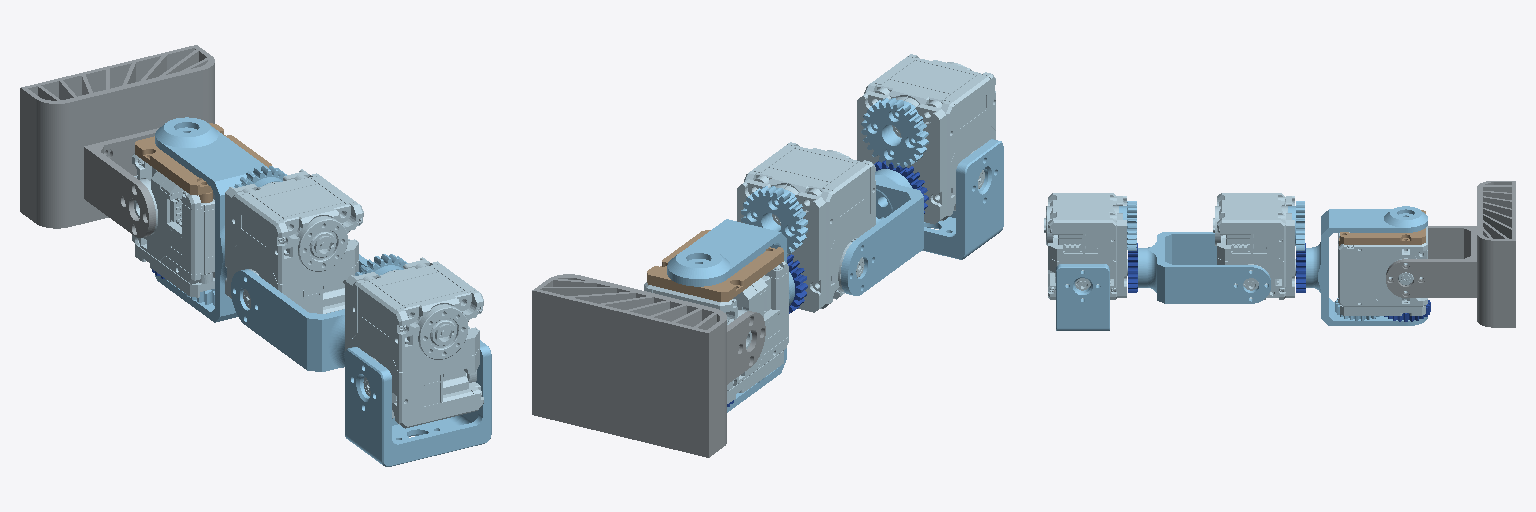
URDF robot description (right_arm_active):
<?xml version="1.0" ?><robot name="right_arm_active">  
  <link name="sho_pitch_link">    
    <visual>      
      <origin xyz="0 0 0" rpy="0 -0 0"/>      
      <geometry>        
        <mesh filename="package:///meshes/right_sho_pitch_link_visual.stl"/>        
      </geometry>      
      <material name="sho_pitch_link_material">        
        <color rgba="0.61568627450980395466 0.81176470588235294379 0.92941176470588227065 1.0"/>        
      </material>      
    </visual>    
    <collision>      
      <origin xyz="0 0 0" rpy="0 -0 0"/>      
      <geometry>        
        <mesh filename="package:///meshes/right_sho_pitch_link_collision.stl"/>        
      </geometry>      
    </collision>    
    <inertial>      
      <origin xyz="-1.025903438159899119e-18 -2.1966078074444289517e-18 0.012913250798677602602" rpy="0 0 0"/>      
      <mass value="0.0085999999999999982708"/>      
      <inertia ixx="1.8365636406635814379e-06" ixy="2.7052466620977967735e-97" ixz="-6.0867229013657688598e-136" iyy="4.0110869076839152165e-06" iyz="-1.6935833339184753197e-44" izz="3.5160516450492493809e-06"/>      
    </inertial>    
  </link>  

  <link name="2xl430_gears">    
    <visual>      
      <origin xyz="0 0 0" rpy="0 -0 0"/>      
      <geometry>        
        <mesh filename="package:///meshes/right_2xl430_gears_visual.stl"/>        
      </geometry>      
      <material name="2xl430_gears_material">        
        <color rgba="0.75914767920569214965 0.85560384745670925444 0.90519468321360607721 1.0"/>        
      </material>      
    </visual>    
    <collision>      
      <origin xyz="0 0 0" rpy="0 -0 0"/>      
      <geometry>        
        <mesh filename="package:///meshes/right_2xl430_gears_collision.stl"/>        
      </geometry>      
    </collision>    
    <inertial>      
      <origin xyz="-0.011592905737978696085 -0.0024238553642522840843 -0.018551095523803726173" rpy="0 0 0"/>      
      <mass value="0.11800003674524911501"/>      
      <inertia ixx="2.7511021050424646017e-05" ixy="9.0043904315135573925e-07" ixz="-2.3349710123960218718e-08" iyy="3.2796197843346207182e-05" iyz="-6.5715119654693386146e-07" izz="3.5775739835740998952e-05"/>      
    </inertial>    
  </link>  

  <link name="spur_1m_24t_drive">    
    <visual>      
      <origin xyz="0 0 0" rpy="0 -0 0"/>      
      <geometry>        
        <mesh filename="package:///meshes/right_spur_1m_24t_drive_visual.stl"/>        
      </geometry>      
      <material name="spur_1m_24t_drive_material">        
        <color rgba="0.61568627450980395466 0.81176470588235294379 0.92941176470588238168 1.0"/>        
      </material>      
    </visual>    
    <collision>      
      <origin xyz="0 0 0" rpy="0 -0 0"/>      
      <geometry>        
        <mesh filename="package:///meshes/right_spur_1m_24t_drive_collision.stl"/>        
      </geometry>      
    </collision>    
    <inertial>      
      <origin xyz="3.0326032612408354263e-15 -3.3912620811388938008e-16 0.0048096451474093030592" rpy="0 0 0"/>      
      <mass value="0.0031999999999999997197"/>      
      <inertia ixx="1.4097598887016958673e-07" ixy="1.556282310200251252e-15" ixz="3.9554371954665940773e-37" iyy="1.4097598803635998845e-07" iyz="-1.3068306635892902166e-36" izz="2.4107776386988835496e-07"/>      
    </inertial>    
  </link>  

  <joint name="right_sho_yaw_drive" type="fixed">    
    <origin xyz="-0.024000000716138267243 -0.019000000152445337132 -0.019000000152448424939" rpy="1.5707963267949289765 -7.4062049324254792929e-14 1.9645226351351914911e-14"/>    
    <parent link="2xl430_gears"/>    
    <child link="spur_1m_24t_drive"/>    
    <axis xyz="0 0 1"/>    
    <limit effort="1" velocity="20"/>    
    <joint_properties friction="0.0"/>    
  </joint>  

  <link name="spur_1m_24t_driven">    
    <visual>      
      <origin xyz="0 0 0" rpy="0 -0 0"/>      
      <geometry>        
        <mesh filename="package:///meshes/right_spur_1m_24t_driven_visual.stl"/>        
      </geometry>      
      <material name="spur_1m_24t_driven_material">        
        <color rgba="0.23137254901960788156 0.38039215686274502337 0.7058823529411765163 1.0"/>        
      </material>      
    </visual>    
    <collision>      
      <origin xyz="0 0 0" rpy="0 -0 0"/>      
      <geometry>        
        <mesh filename="package:///meshes/right_spur_1m_24t_driven_collision.stl"/>        
      </geometry>      
    </collision>    
    <inertial>      
      <origin xyz="-2.690304390834019776e-18 -1.6883842059581361246e-15 -0.00097237500038395777158" rpy="0 0 0"/>      
      <mass value="0.0026999999999999997093"/>      
      <inertia ixx="1.2202334915684080498e-07" ixy="0" ixz="0" iyy="1.2202334915684064616e-07" iyz="-3.1611202962161956801e-37" izz="2.3180293204341252239e-07"/>      
    </inertial>    
  </link>  

  <link name="sho_yaw_link">    
    <visual>      
      <origin xyz="0 0 0" rpy="0 -0 0"/>      
      <geometry>        
        <mesh filename="package:///meshes/right_sho_yaw_link_visual.stl"/>        
      </geometry>      
      <material name="sho_yaw_link_material">        
        <color rgba="0.61568627450980395466 0.81176470588235294379 0.92941176470588238168 1.0"/>        
      </material>      
    </visual>    
    <collision>      
      <origin xyz="0 0 0" rpy="0 -0 0"/>      
      <geometry>        
        <mesh filename="package:///meshes/right_sho_yaw_link_collision.stl"/>        
      </geometry>      
    </collision>    
    <inertial>      
      <origin xyz="-1.3035740535093626537e-18 2.6069328434162263936e-18 -0.024649285094360089132" rpy="0 0 0"/>      
      <mass value="0.014500000000000007674"/>      
      <inertia ixx="9.2365904614004439553e-06" ixy="3.5862833440690451918e-13" ixz="3.9137616104652588598e-44" iyy="5.8163826335078791714e-06" iyz="-5.7710285861749289932e-36" izz="4.5074356741562122031e-06"/>      
    </inertial>    
  </link>  

  <link name="2xl430_gears_2">    
    <visual>      
      <origin xyz="0 0 0" rpy="0 -0 0"/>      
      <geometry>        
        <mesh filename="package:///meshes/right_2xl430_gears_2_visual.stl"/>        
      </geometry>      
      <material name="2xl430_gears_2_material">        
        <color rgba="0.75914767920569214965 0.85560384745670925444 0.90519468321360607721 1.0"/>        
      </material>      
    </visual>    
    <collision>      
      <origin xyz="0 0 0" rpy="0 -0 0"/>      
      <geometry>        
        <mesh filename="package:///meshes/right_2xl430_gears_2_collision.stl"/>        
      </geometry>      
    </collision>    
    <inertial>      
      <origin xyz="-0.011592905737984599349 -0.0024238553642520555345 -0.018551095523805894577" rpy="0 0 0"/>      
      <mass value="0.11800003674524911501"/>      
      <inertia ixx="2.7511021050426052092e-05" ixy="9.0043904315050616521e-07" ixz="-2.3349710123664931783e-08" iyy="3.2796197843347223622e-05" iyz="-6.5715119654724408728e-07" izz="3.5775739835742259337e-05"/>      
    </inertial>    
  </link>  

  <link name="spur_1m_24t_drive_2">    
    <visual>      
      <origin xyz="0 0 0" rpy="0 -0 0"/>      
      <geometry>        
        <mesh filename="package:///meshes/right_spur_1m_24t_drive_2_visual.stl"/>        
      </geometry>      
      <material name="spur_1m_24t_drive_2_material">        
        <color rgba="0.61568627450980395466 0.81176470588235294379 0.92941176470588238168 1.0"/>        
      </material>      
    </visual>    
    <collision>      
      <origin xyz="0 0 0" rpy="0 -0 0"/>      
      <geometry>        
        <mesh filename="package:///meshes/right_spur_1m_24t_drive_2_collision.stl"/>        
      </geometry>      
    </collision>    
    <inertial>      
      <origin xyz="3.0256643673369285924e-15 -3.3912620813973872492e-16 0.0048096451474092995898" rpy="0 0 0"/>      
      <mass value="0.0031999999999999997197"/>      
      <inertia ixx="1.4097598887016958673e-07" ixy="1.5562823048769074231e-15" ixz="-2.8340681600212421658e-36" iyy="1.4097598803635996198e-07" iyz="1.2526517803646001736e-36" izz="2.4107776386988835496e-07"/>      
    </inertial>    
  </link>  

  <joint name="right_elbow_yaw_drive" type="fixed">    
    <origin xyz="-0.024000000716147162905 -0.019000000152450874369 -0.019000000152450294971" rpy="1.5707963267950022512 -1.2151179192951298761e-14 -8.3478238015103697896e-15"/>    
    <parent link="2xl430_gears_2"/>    
    <child link="spur_1m_24t_drive_2"/>    
    <axis xyz="0 0 1"/>    
    <limit effort="1" velocity="20"/>    
    <joint_properties friction="0.0"/>    
  </joint>  

  <link name="spur_1m_24t_driven_2">    
    <visual>      
      <origin xyz="0 0 0" rpy="0 -0 0"/>      
      <geometry>        
        <mesh filename="package:///meshes/right_spur_1m_24t_driven_2_visual.stl"/>        
      </geometry>      
      <material name="spur_1m_24t_driven_2_material">        
        <color rgba="0.23137254901960788156 0.38039215686274502337 0.7058823529411765163 1.0"/>        
      </material>      
    </visual>    
    <collision>      
      <origin xyz="0 0 0" rpy="0 -0 0"/>      
      <geometry>        
        <mesh filename="package:///meshes/right_spur_1m_24t_driven_2_collision.stl"/>        
      </geometry>      
    </collision>    
    <inertial>      
      <origin xyz="-2.690304390834019776e-18 -1.6883842059581371106e-15 -0.00097237500038396460205" rpy="0 0 0"/>      
      <mass value="0.0026999999999999997093"/>      
      <inertia ixx="1.2202334915684080498e-07" ixy="3.8503779869585959908e-37" ixz="1.8410192092776977521e-66" iyy="1.2202334915684064616e-07" iyz="1.7901380328147422279e-36" izz="2.3180293204341252239e-07"/>      
    </inertial>    
  </link>  

  <link name="elb_yaw_link">    
    <visual>      
      <origin xyz="0 0 0" rpy="0 -0 0"/>      
      <geometry>        
        <mesh filename="package:///meshes/right_elb_yaw_link_visual.stl"/>        
      </geometry>      
      <material name="elb_yaw_link_material">        
        <color rgba="0.61568627450980395466 0.81176470588235294379 0.92941176470588227065 1.0"/>        
      </material>      
    </visual>    
    <collision>      
      <origin xyz="0 0 0" rpy="0 -0 0"/>      
      <geometry>        
        <mesh filename="package:///meshes/right_elb_yaw_link_collision.stl"/>        
      </geometry>      
    </collision>    
    <inertial>      
      <origin xyz="5.3127688027774929136e-08 0.0019833638641961648559 -0.02341664355154993854" rpy="0 0 0"/>      
      <mass value="0.017500000000000005135"/>      
      <inertia ixx="1.4134344903109199776e-05" ixy="1.6945783922006116668e-12" ixz="-1.1286398721833140765e-11" iyy="6.6435900776211340404e-06" iyz="1.0545227077253051227e-06" izz="8.9925290757998993713e-06"/>      
    </inertial>    
  </link>  

  <link name="spur_1m_24t_driven_3">    
    <visual>      
      <origin xyz="0 0 0" rpy="0 -0 0"/>      
      <geometry>        
        <mesh filename="package:///meshes/right_spur_1m_24t_driven_3_visual.stl"/>        
      </geometry>      
      <material name="spur_1m_24t_driven_3_material">        
        <color rgba="0.23137254901960788156 0.38039215686274502337 0.7058823529411765163 1.0"/>        
      </material>      
    </visual>    
    <collision>      
      <origin xyz="0 0 0" rpy="0 -0 0"/>      
      <geometry>        
        <mesh filename="package:///meshes/right_spur_1m_24t_driven_3_collision.stl"/>        
      </geometry>      
    </collision>    
    <inertial>      
      <origin xyz="2.5065271224795038179e-17 -1.6883842059581323775e-15 -0.0025723750003839550293" rpy="0 0 0"/>      
      <mass value="0.0026999999999999997093"/>      
      <inertia ixx="1.2202334915684080498e-07" ixy="1.6801645595678856956e-36" ixz="1.4628821664372086897e-36" iyy="1.2202334915684064616e-07" iyz="0" izz="2.3180293204341252239e-07"/>      
    </inertial>    
  </link>  

  <link name="2xl430_gears_3">    
    <visual>      
      <origin xyz="0 0 0" rpy="0 -0 0"/>      
      <geometry>        
        <mesh filename="package:///meshes/right_2xl430_gears_3_visual.stl"/>        
      </geometry>      
      <material name="2xl430_gears_3_material">        
        <color rgba="0.75914767920569214965 0.85560384745670925444 0.90519468321360607721 1.0"/>        
      </material>      
    </visual>    
    <collision>      
      <origin xyz="0 0 0" rpy="0 -0 0"/>      
      <geometry>        
        <mesh filename="package:///meshes/right_2xl430_gears_3_collision.stl"/>        
      </geometry>      
    </collision>    
    <inertial>      
      <origin xyz="0.00044890447620015019132 0.011592905379911784894 -0.024576144788197192698" rpy="0 0 0"/>      
      <mass value="0.11800003674524911501"/>      
      <inertia ixx="3.5775739835742767557e-05" ixy="2.3349710123598390066e-08" ixz="6.5715119654677461927e-07" iyy="2.7511021050425875909e-05" iyz="9.0043904315183537166e-07" izz="3.2796197843346695073e-05"/>      
    </inertial>    
  </link>  

  <link name="spur_1m_24t_drive_3">    
    <visual>      
      <origin xyz="0 0 0" rpy="0 -0 0"/>      
      <geometry>        
        <mesh filename="package:///meshes/right_spur_1m_24t_drive_3_visual.stl"/>        
      </geometry>      
      <material name="spur_1m_24t_drive_3_material">        
        <color rgba="0.61568627450980395466 0.81176470588235294379 0.92941176470588238168 1.0"/>        
      </material>      
    </visual>    
    <collision>      
      <origin xyz="0 0 0" rpy="0 -0 0"/>      
      <geometry>        
        <mesh filename="package:///meshes/right_spur_1m_24t_drive_3_collision.stl"/>        
      </geometry>      
    </collision>    
    <inertial>      
      <origin xyz="3.0326032612408362152e-15 -3.3912620813973872492e-16 0.0048096451474093065287" rpy="0 0 0"/>      
      <mass value="0.0031999999999999997197"/>      
      <inertia ixx="1.409759888701696132e-07" ixy="1.5562823122431795239e-15" ixz="9.6598469821100867444e-37" iyy="1.4097598803636004139e-07" iyz="-1.7762240303079187312e-37" izz="2.4107776386988835496e-07"/>      
    </inertial>    
  </link>  

  <joint name="right_wrist_pitch_drive" type="fixed">    
    <origin xyz="-1.5244312511681577095e-10 0.024000000358071732487 -0.0080000000000008709977" rpy="1.2483159056318864267e-14 7.3485321852726251993e-14 -1.5707963267948599206"/>    
    <parent link="2xl430_gears_3"/>    
    <child link="spur_1m_24t_drive_3"/>    
    <axis xyz="0 0 1"/>    
    <limit effort="1" velocity="20"/>    
    <joint_properties friction="0.0"/>    
  </joint>  

  <link name="hand">    
    <visual>      
      <origin xyz="0 0 0" rpy="0 -0 0"/>      
      <geometry>        
        <mesh filename="package:///meshes/right_hand_visual.stl"/>        
      </geometry>      
      <material name="hand_material">        
        <color rgba="0.64149913129808888712 0.67624720774385704836 0.69709605361131798951 1.0"/>        
      </material>      
    </visual>    
    <collision>      
      <origin xyz="0 0 0" rpy="0 -0 0"/>      
      <geometry>        
        <mesh filename="package:///meshes/right_hand_collision.stl"/>        
      </geometry>      
    </collision>    
    <inertial>      
      <origin xyz="0.0037132560777026323712 -0.042135580180293688568 -0.018486870577627653039" rpy="0 0 0"/>      
      <mass value="0.039499999999999986511"/>      
      <inertia ixx="2.4655505305535383863e-05" ixy="6.2292690365591973125e-07" ixz="-1.3905201231125081665e-08" iyy="2.5499495708696300544e-05" iyz="4.048228436147505174e-08" izz="1.3476712280060873444e-05"/>      
    </inertial>    
  </link>  

  <joint name="right_wrist_roll" type="revolute">    
    <origin xyz="0.019000000000002754269 -3.5806785314562716849e-10 -0.02700000015244990656" rpy="5.2111933288359401161e-30 1.570796326794831943 0"/>    
    <parent link="2xl430_gears_3"/>    
    <child link="hand"/>    
    <axis xyz="0 0 1"/>    
    <limit effort="1" velocity="20" lower="-1.3962634015954635824" upper="1.9198621771937625091"/>    
    <joint_properties friction="0.0"/>    
  </joint>  

  <link name="wrist_bearing_plate">    
    <visual>      
      <origin xyz="0 0 0" rpy="0 -0 0"/>      
      <geometry>        
        <mesh filename="package:///meshes/right_wrist_bearing_plate_visual.stl"/>        
      </geometry>      
      <material name="wrist_bearing_plate_material">        
        <color rgba="0.71932243125689054875 0.63128434304969727187 0.52422389360984933404 1.0"/>        
      </material>      
    </visual>    
    <collision>      
      <origin xyz="0 0 0" rpy="0 -0 0"/>      
      <geometry>        
        <mesh filename="package:///meshes/right_wrist_bearing_plate_collision.stl"/>        
      </geometry>      
    </collision>    
    <inertial>      
      <origin xyz="-0.0075835583121499801351 -0.015499999999999977338 -0.0018386323705903331437" rpy="0 0 0"/>      
      <mass value="0.0049000367468305557062"/>      
      <inertia ixx="4.9707430109150129132e-07" ixy="1.3510663819638977183e-22" ixz="1.8100904820814035248e-08" iyy="7.1268523603538595411e-07" iyz="1.9159694223314982598e-23" izz="1.1919657811600109234e-06"/>      
    </inertial>    
  </link>  

  <joint name="right_wrist_pitch_fixed" type="fixed">    
    <origin xyz="0.015500000000003967202 4.5519144009631418157e-15 -0.045000000000003738398" rpy="-3.053113317715679127e-15 1.2051470932306202988e-13 -1.570796326794896558"/>    
    <parent link="2xl430_gears_3"/>    
    <child link="wrist_bearing_plate"/>    
    <axis xyz="0 0 1"/>    
    <limit effort="1" velocity="20"/>    
    <joint_properties friction="0.0"/>    
  </joint>  

  <joint name="right_wrist_pitch" type="revolute">    
    <origin xyz="2.7755575615628913511e-17 3.1554436208840472216e-30 -0.0015999999999999940051" rpy="-2.7183456742960519592e-16 6.3108872417680986472e-30 1.570796326794896558"/>    
    <parent link="spur_1m_24t_driven_3"/>    
    <child link="2xl430_gears_3"/>    
    <axis xyz="0 0 1"/>    
    <limit effort="1" velocity="20" lower="-1.9198621771937625091" upper="1.3962634015954635824"/>    
    <joint_properties friction="0.0"/>    
  </joint>  

  <joint name="right_wrist_roll_fixed" type="fixed">    
    <origin xyz="5.5220263365470826379e-30 -0.025299999999999999573 -0.051999999999999990674" rpy="1.570796326794896558 1.570796326794896558 0"/>    
    <parent link="elb_yaw_link"/>    
    <child link="spur_1m_24t_driven_3"/>    
    <axis xyz="0 0 1"/>    
    <limit effort="1" velocity="20"/>    
    <joint_properties friction="0.0"/>    
  </joint>  

  <joint name="right_elbow_yaw_fixed" type="fixed">    
    <origin xyz="-3.4694469519536141888e-18 7.8886090522101180541e-31 0.0015999999999999903189" rpy="3.141592653589793116 5.5511151240344814396e-17 -1.5707963267948970021"/>    
    <parent link="spur_1m_24t_driven_2"/>    
    <child link="elb_yaw_link"/>    
    <axis xyz="0 0 1"/>    
    <limit effort="1" velocity="20"/>    
    <joint_properties friction="0.0"/>    
  </joint>  

  <joint name="right_elbow_yaw" type="revolute">    
    <origin xyz="-3.5807255424624706563e-10 -0.027000000152453657032 -0.019000000000001768946" rpy="1.570796326794956066 3.0087043967523975425e-14 -4.0634162701317111644e-14"/>    
    <parent link="2xl430_gears_2"/>    
    <child link="spur_1m_24t_driven_2"/>    
    <axis xyz="0 0 1"/>    
    <limit effort="1" velocity="20" lower="-2.6179938779914944114" upper="2.6179938779914944114"/>    
    <joint_properties friction="0.0"/>    
  </joint>  

  <joint name="right_elbow_roll" type="revolute">    
    <origin xyz="-8.4654505627668186207e-16 -0.018999999999998996858 -0.05900000000000006628" rpy="1.570796326794896558 -7.4924624234411720275e-14 -2.6978419498846060156e-14"/>    
    <parent link="sho_yaw_link"/>    
    <child link="2xl430_gears_2"/>    
    <axis xyz="0 0 1"/>    
    <limit effort="1" velocity="20" lower="-1.9198621771937625091" upper="2.4434609527920612138"/>    
    <joint_properties friction="0.0"/>    
  </joint>  

  <joint name="right_sho_yaw_fixed" type="fixed">    
    <origin xyz="0 3.9443045261050590271e-31 0.0015999999999999972577" rpy="3.141592653589793116 -5.0487097934144755546e-29 -1.8301573001127473886e-28"/>    
    <parent link="spur_1m_24t_driven"/>    
    <child link="sho_yaw_link"/>    
    <axis xyz="0 0 1"/>    
    <limit effort="1" velocity="20"/>    
    <joint_properties friction="0.0"/>    
  </joint>  

  <joint name="right_sho_yaw" type="revolute">    
    <origin xyz="-3.5806816886529979627e-10 -0.027000000152446666096 -0.019000000000003354483" rpy="1.5707963267949260899 -2.2055090607973039157e-14 7.6050277186033683693e-15"/>    
    <parent link="2xl430_gears"/>    
    <child link="spur_1m_24t_driven"/>    
    <axis xyz="0 0 1"/>    
    <limit effort="1" velocity="20" lower="-2.6179938779914944114" upper="2.6179938779914944114"/>    
    <joint_properties friction="0.0"/>    
  </joint>  

  <joint name="right_sho_roll" type="revolute">    
    <origin xyz="-0.018999999999999999528 9.3241386833306442318e-18 0.027000000000000006634" rpy="3.141592653589793116 1.5707963267948952257 0"/>    
    <parent link="sho_pitch_link"/>    
    <child link="2xl430_gears"/>    
    <axis xyz="0 0 1"/>    
    <limit effort="1" velocity="20" lower="-1.570796326794896558" upper="0.34906585039886589561"/>    
    <joint_properties friction="0.0"/>    
  </joint>  


</robot>

--- Render facts (derived) ---
3 views of the same robot in one strip: view 1: azimuth 30°, elevation 25°; view 2: azimuth 150°, elevation 25°; view 3: azimuth 270°, elevation 25° (orthographic).
Robot: right_arm_active — 14 links, 13 joints (6 revolute, 7 fixed); root link sho_pitch_link; default pose: every joint at zero.
Links seen in each view (by area): view 1: hand, 2xl430_gears, 2xl430_gears_2, sho_pitch_link, 2xl430_gears_3, elb_yaw_link, sho_yaw_link, wrist_bearing_plate, spur_1m_24t_drive, spur_1m_24t_drive_2; view 2: hand, 2xl430_gears_2, 2xl430_gears, sho_yaw_link, sho_pitch_link, elb_yaw_link, 2xl430_gears_3, spur_1m_24t_drive, wrist_bearing_plate, spur_1m_24t_drive_2, spur_1m_24t_driven_2, spur_1m_24t_driven; view 3: hand, sho_yaw_link, 2xl430_gears_2, 2xl430_gears, 2xl430_gears_3, elb_yaw_link, sho_pitch_link, wrist_bearing_plate, spur_1m_24t_drive, spur_1m_24t_drive_2.
Link boxes in pixels (x1,y1,x2,y2): hand: [20, 45, 214, 237]; 2xl430_gears: [345, 257, 483, 428]; 2xl430_gears_2: [225, 169, 363, 313]; sho_pitch_link: [345, 340, 491, 466]; 2xl430_gears_3: [132, 153, 214, 297]; elb_yaw_link: [155, 117, 267, 322]; sho_yaw_link: [231, 254, 367, 371]; wrist_bearing_plate: [135, 123, 271, 202]; spur_1m_24t_drive: [355, 254, 407, 275]; spur_1m_24t_drive_2: [234, 166, 286, 187]; hand: [532, 274, 765, 457]; 2xl430_gears_2: [737, 142, 875, 312]; 2xl430_gears: [857, 54, 995, 224]; sho_yaw_link: [841, 169, 923, 295]; sho_pitch_link: [922, 139, 1003, 259]; elb_yaw_link: [667, 219, 794, 412]; 2xl430_gears_3: [644, 261, 788, 403]; spur_1m_24t_drive: [861, 98, 928, 167]; wrist_bearing_plate: [647, 230, 783, 301]; spur_1m_24t_drive_2: [741, 186, 807, 253]; spur_1m_24t_driven_2: [787, 254, 807, 313]; spur_1m_24t_driven: [874, 160, 928, 213]; hand: [1386, 181, 1515, 327]; sho_yaw_link: [1138, 232, 1270, 303]; 2xl430_gears_2: [1213, 193, 1295, 299]; 2xl430_gears: [1044, 193, 1127, 299]; 2xl430_gears_3: [1338, 226, 1427, 315]; elb_yaw_link: [1306, 206, 1427, 325]; sho_pitch_link: [1056, 264, 1109, 330]; wrist_bearing_plate: [1339, 210, 1425, 245]; spur_1m_24t_drive: [1119, 201, 1136, 250]; spur_1m_24t_drive_2: [1288, 201, 1304, 250].
Size in the robot's own frame: 0.074 by 0.2452 by 0.0652 metres.
Meshes: 14 distinct files referenced, 14 mesh visuals loaded (14 binary STL).